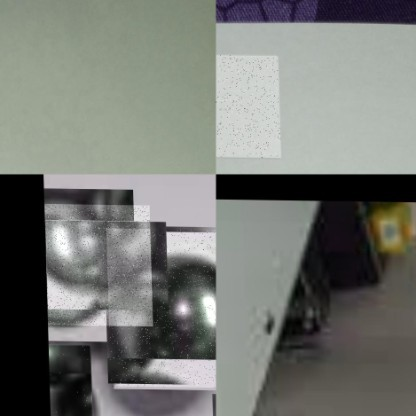ironball: (105, 227, 215, 387), (43, 203, 151, 325), (215, 54, 279, 157), (46, 344, 91, 415)
